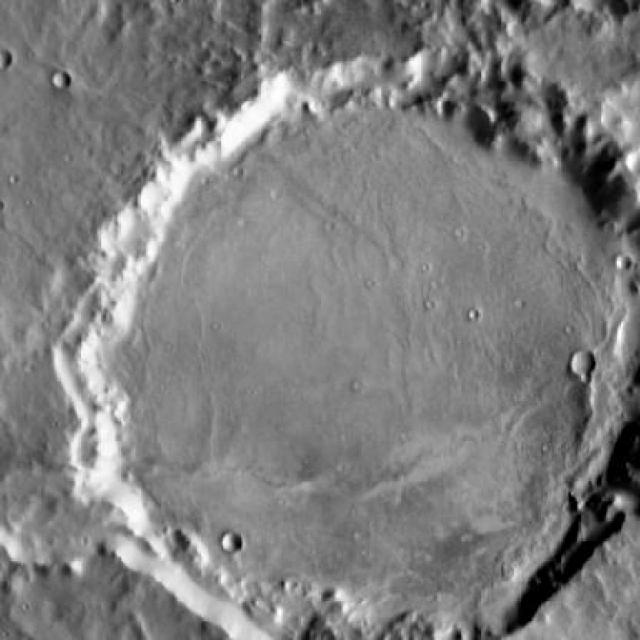crater: (47, 57, 640, 640), (569, 347, 594, 371), (218, 532, 244, 554), (54, 70, 72, 87)
